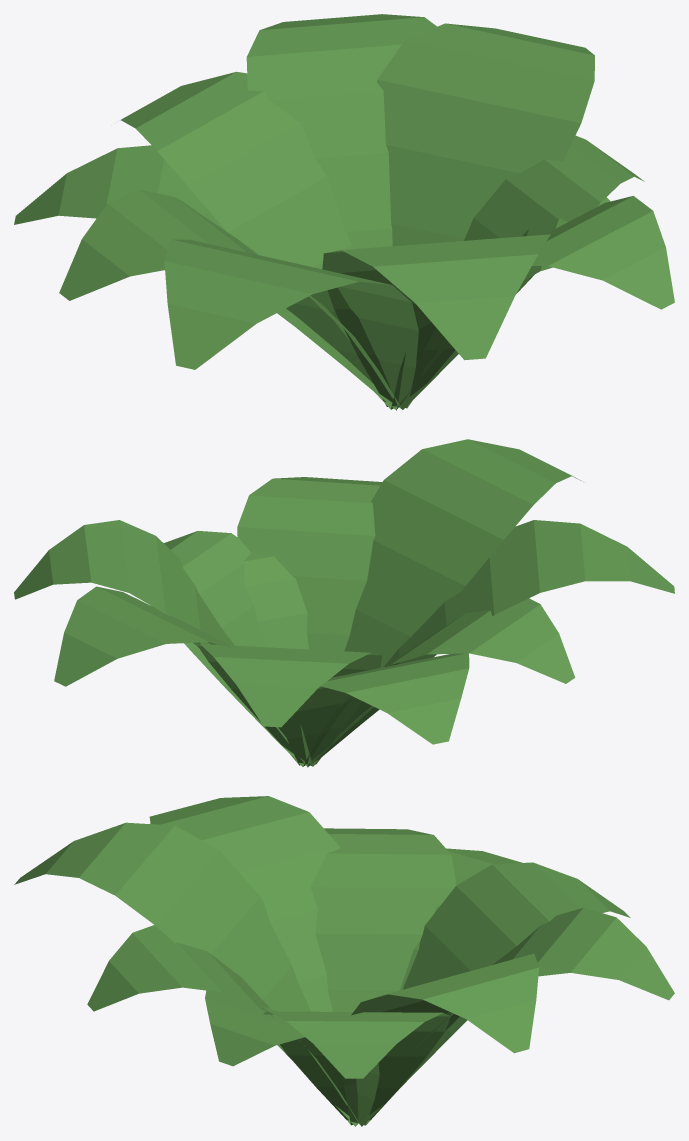
The model's file is forest_ferns.glb.
The picture shows the model from 3 angles, top to bottom: view 1: azimuth 30°, elevation 25°; view 2: azimuth 150°, elevation 25°; view 3: azimuth 270°, elevation 25°; orthographic projection. The views are drawn at different scales.
Visible parts, largest first — view 1: Forest_Fern_Frond_Cluster; view 2: Forest_Fern_Frond_Cluster; view 3: Forest_Fern_Frond_Cluster.
Boxes of the visible parts, x1=… form: Forest_Fern_Frond_Cluster: x1=14, y1=14, x2=674, y2=410; Forest_Fern_Frond_Cluster: x1=14, y1=439, x2=674, y2=767; Forest_Fern_Frond_Cluster: x1=14, y1=796, x2=674, y2=1126.
Bounding box in the file's own units: 2.56 × 1.15 × 2.93.
